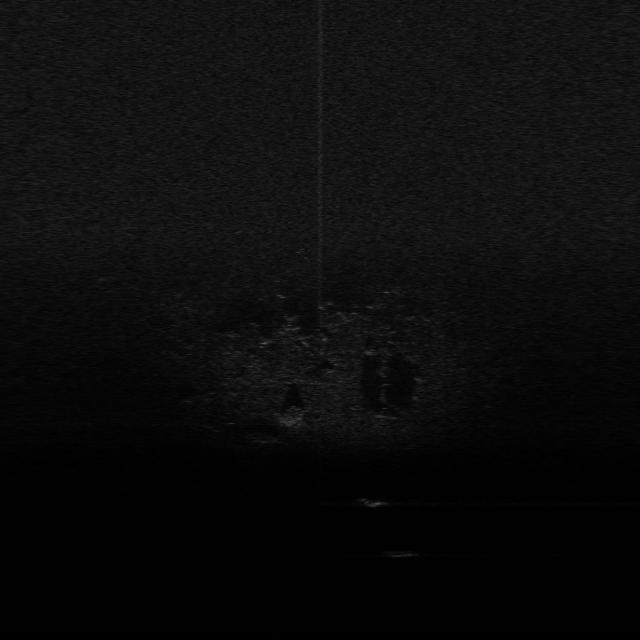cube: (383, 548, 421, 558)
square cage: (356, 496, 390, 509)
